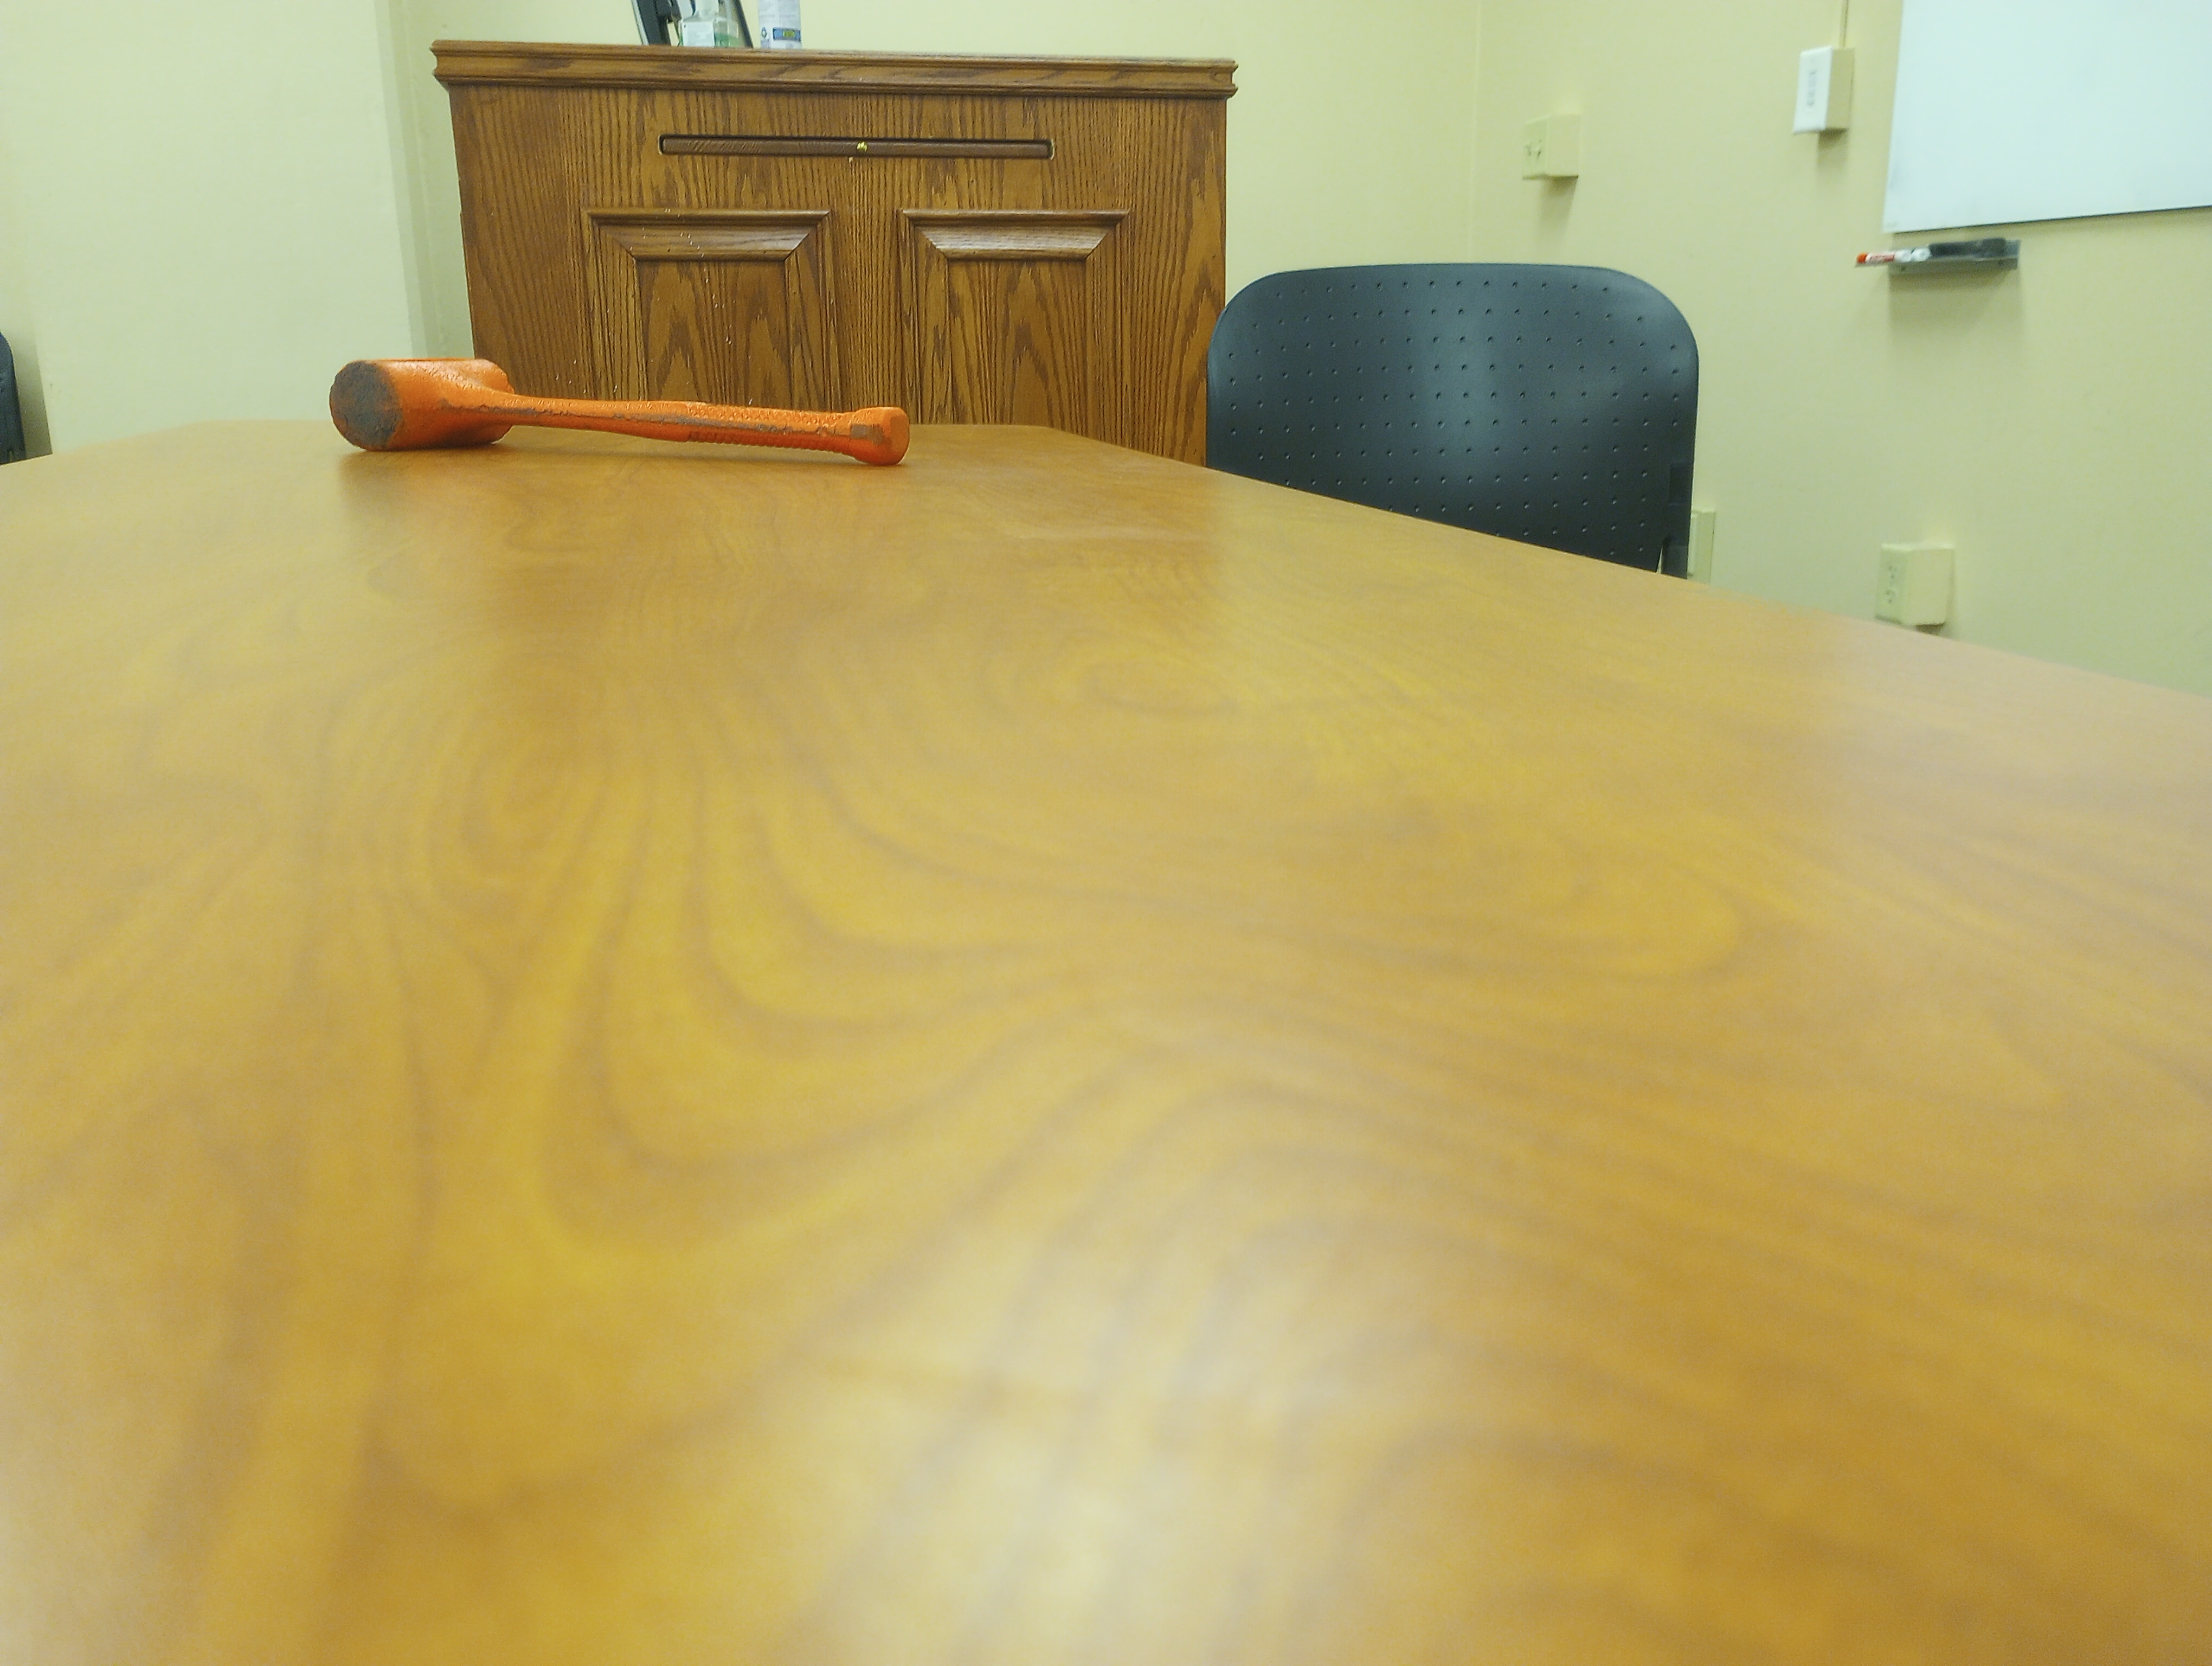hammer: (325, 341, 918, 480)
